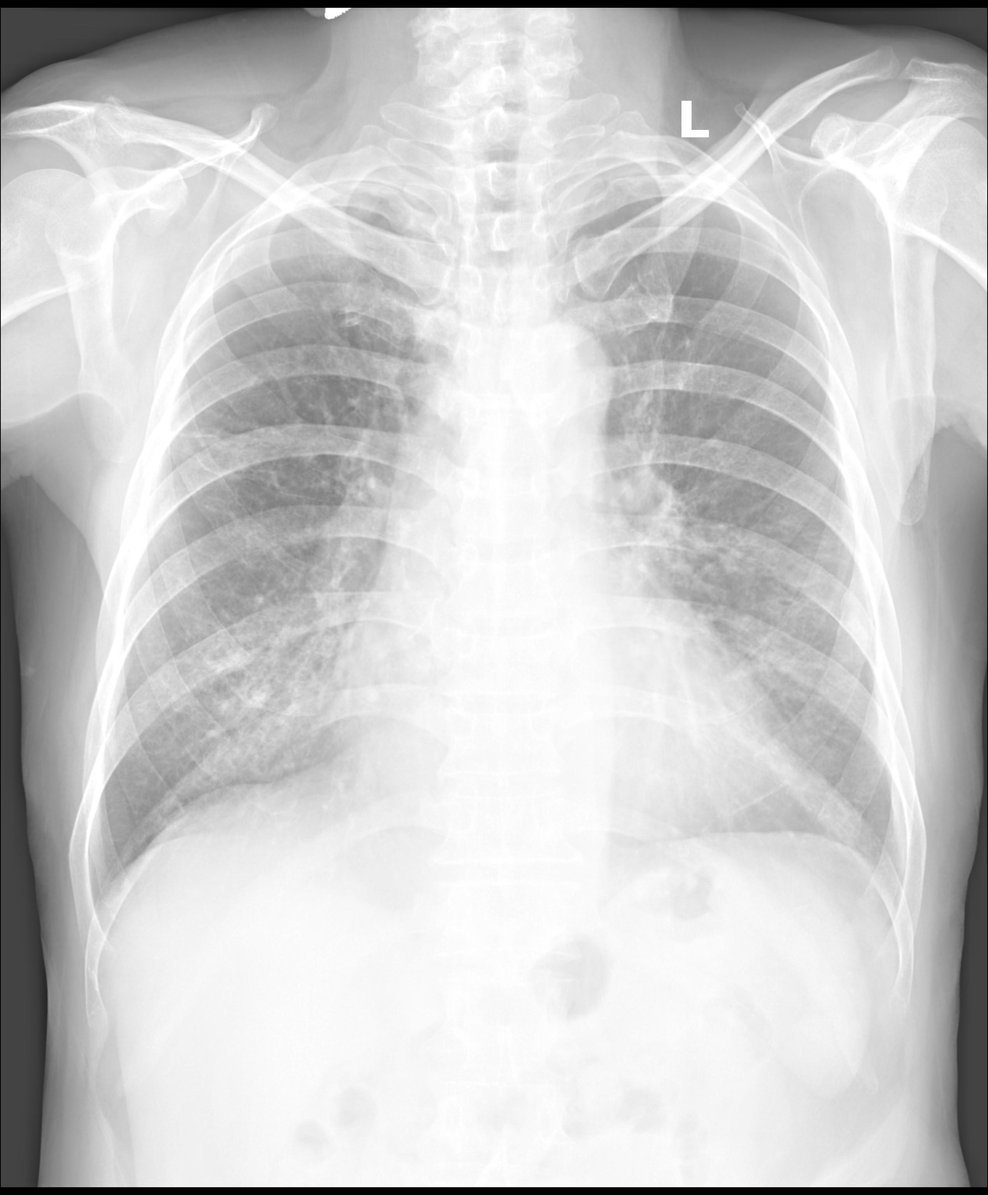Pulmonary fibrosis: (193, 624, 326, 766), (176, 422, 267, 480)
